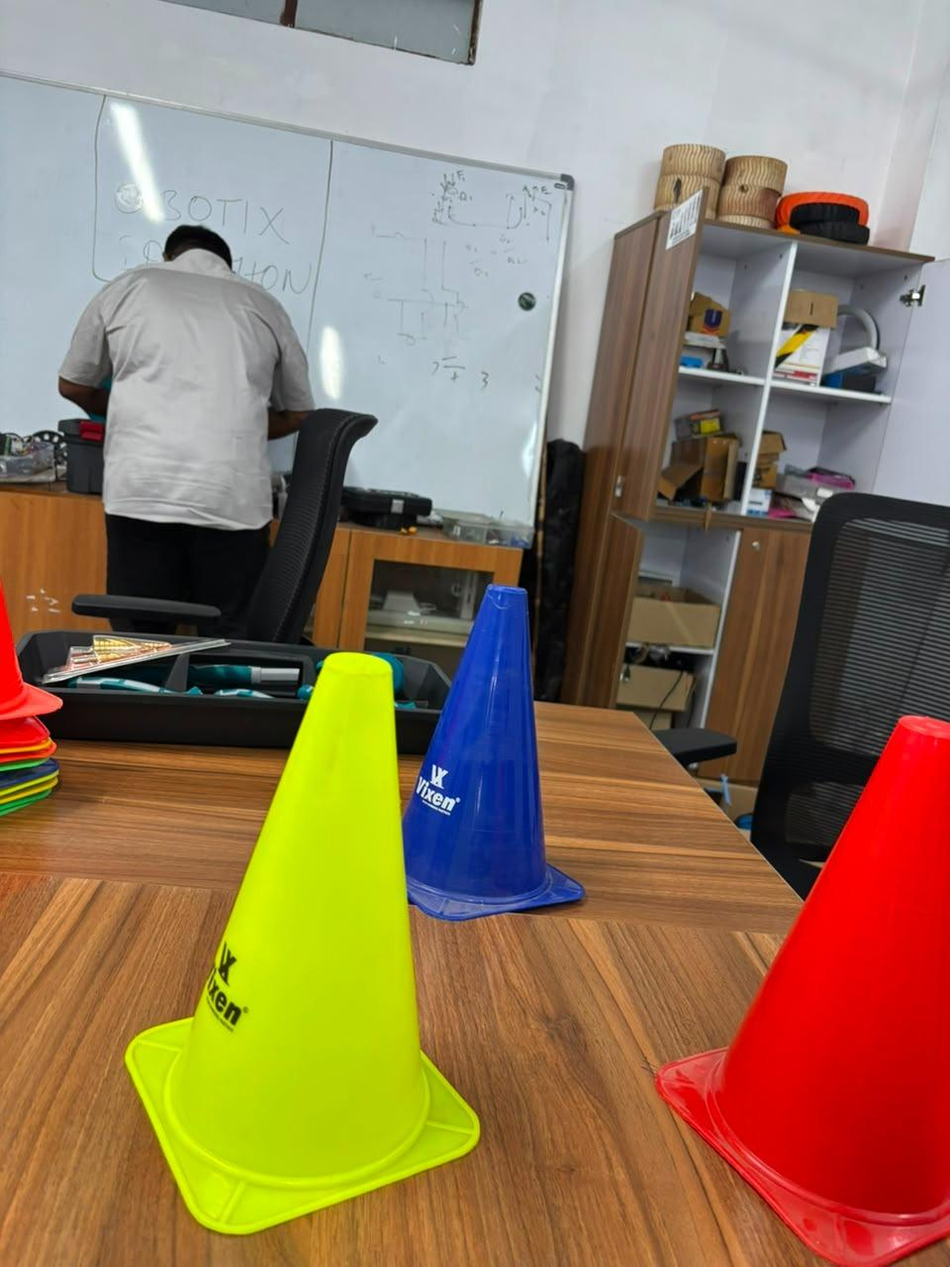0 cone: (127, 652, 478, 1233), (657, 717, 949, 1266), (408, 587, 583, 919)
